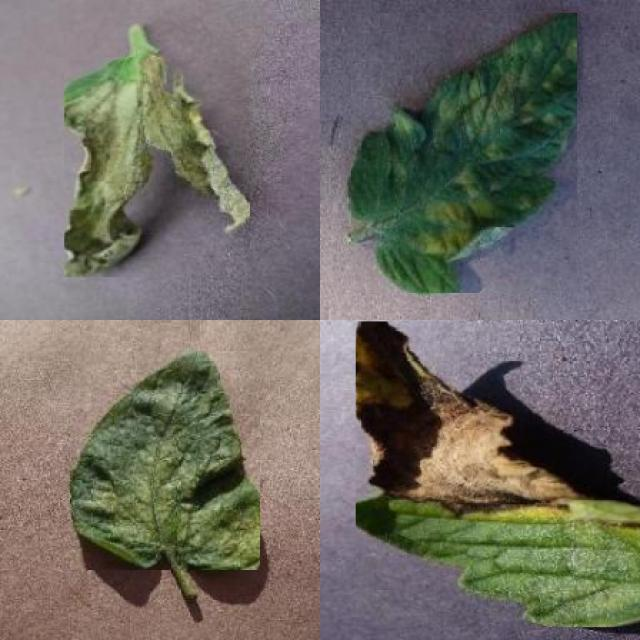Late Blight: (355, 322, 640, 627), (65, 57, 251, 277)
Leaf Mold: (350, 13, 577, 294)
Spider Mites: (72, 350, 260, 570)
